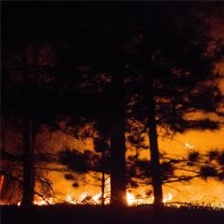fire: (11, 146, 224, 210)
